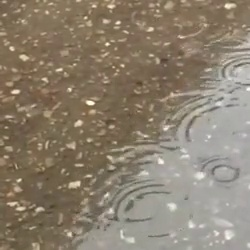drop: (166, 95, 250, 147), (114, 179, 189, 236), (200, 156, 239, 183), (219, 58, 250, 87)
